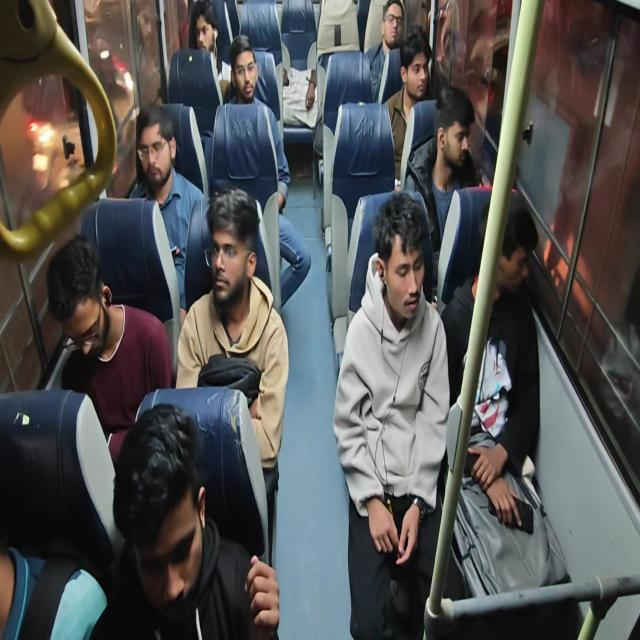person: (333, 191, 452, 638), (440, 192, 570, 597), (89, 402, 280, 639), (175, 186, 289, 565), (46, 233, 173, 466), (225, 34, 311, 306), (127, 102, 205, 326), (403, 84, 479, 250), (382, 25, 432, 187), (279, 0, 318, 128), (188, 0, 232, 104), (364, 0, 405, 104), (133, 1, 165, 107)
